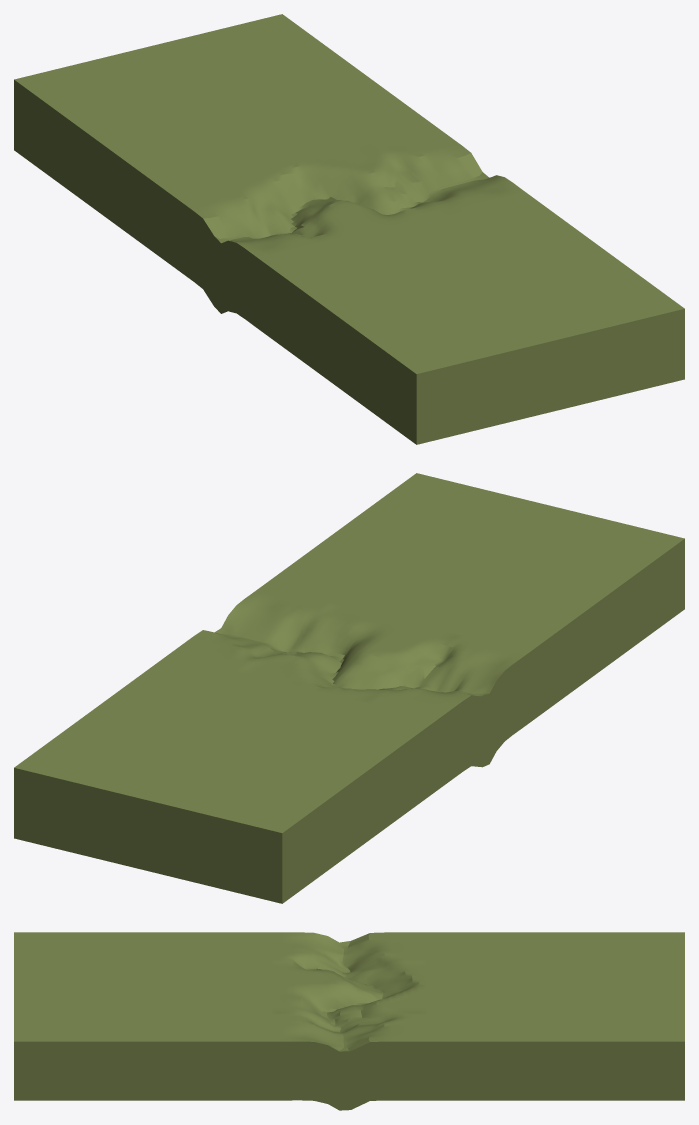
The model's file is Tole_3.fbx.
The picture shows the model from 3 angles, top to bottom: view 1: azimuth 30°, elevation 25°; view 2: azimuth 150°, elevation 25°; view 3: azimuth 270°, elevation 25°; orthographic projection. The views are drawn at different scales.
Parts seen in each view (by area): view 1: Tile 5.002; view 2: Tile 5.002; view 3: Tile 5.002.
Boxes of the visible parts, x1,y1,x2,y2 form: Tile 5.002: (14, 14, 684, 444); Tile 5.002: (14, 473, 684, 903); Tile 5.002: (14, 932, 684, 1110).
Size of the model in its own units: 5000 by 1481 by 12991.
